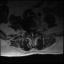CCS_normal: (31, 30, 33, 38)
LFS_severe_stenosis: (34, 29, 36, 34)
LLS_severe_stenosis: (32, 30, 34, 35)
RFS_severe_stenosis: (28, 29, 29, 34)
RLS_severe_stenosis: (29, 29, 31, 35)
